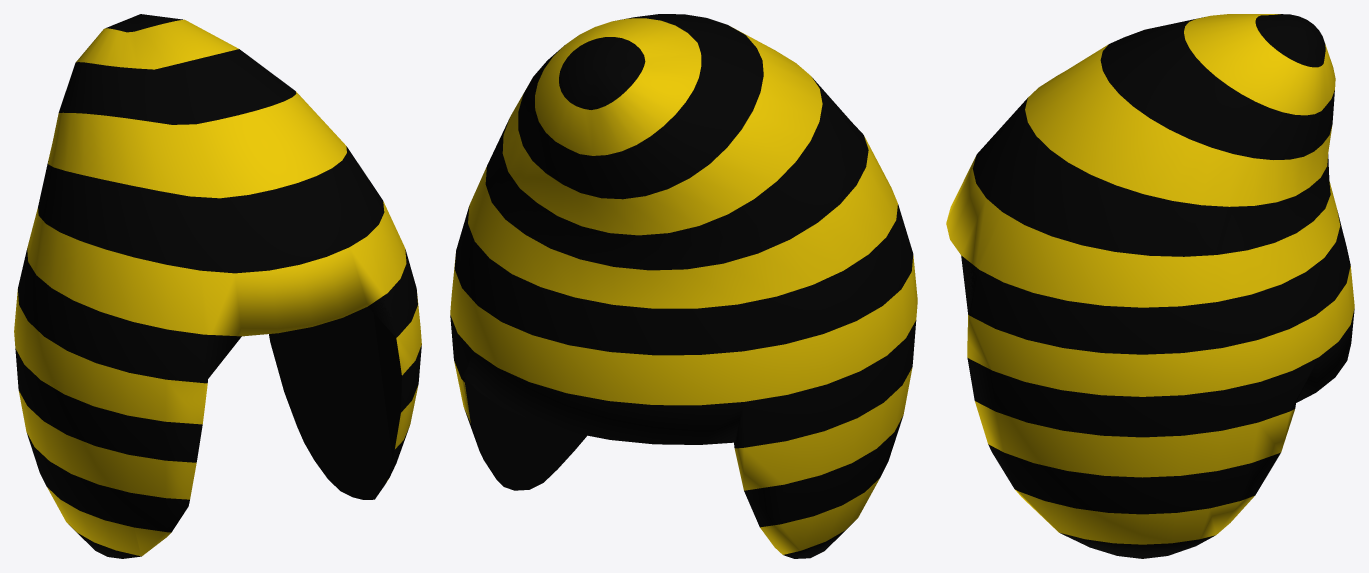
File: Hippie.fbx
The picture shows the model from 3 angles, left to right: view 1: azimuth 30°, elevation 25°; view 2: azimuth 150°, elevation 25°; view 3: azimuth 270°, elevation 25°; orthographic projection. The views are drawn at different scales.
Parts seen in each view (by area): view 1: HippieHat; view 2: HippieHat; view 3: HippieHat.
Part boxes in pixels (bbox=[...]): HippieHat: bbox=[14, 14, 421, 558]; HippieHat: bbox=[450, 14, 917, 558]; HippieHat: bbox=[946, 14, 1354, 558].
Size of the model in its own units: 143 by 176 by 137.
